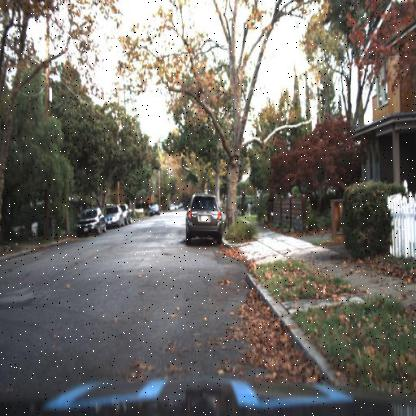car: (180, 190, 226, 248), (74, 203, 106, 239), (104, 204, 122, 230), (121, 204, 132, 226), (148, 202, 160, 217)
